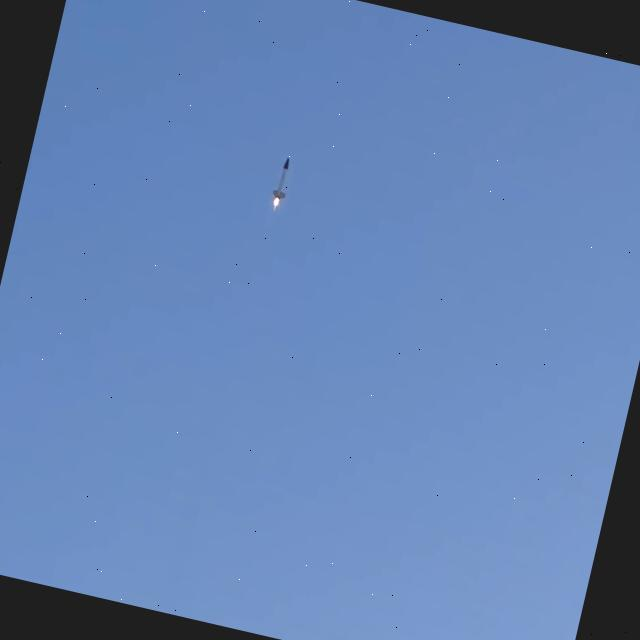rocket: (270, 160, 289, 210)
